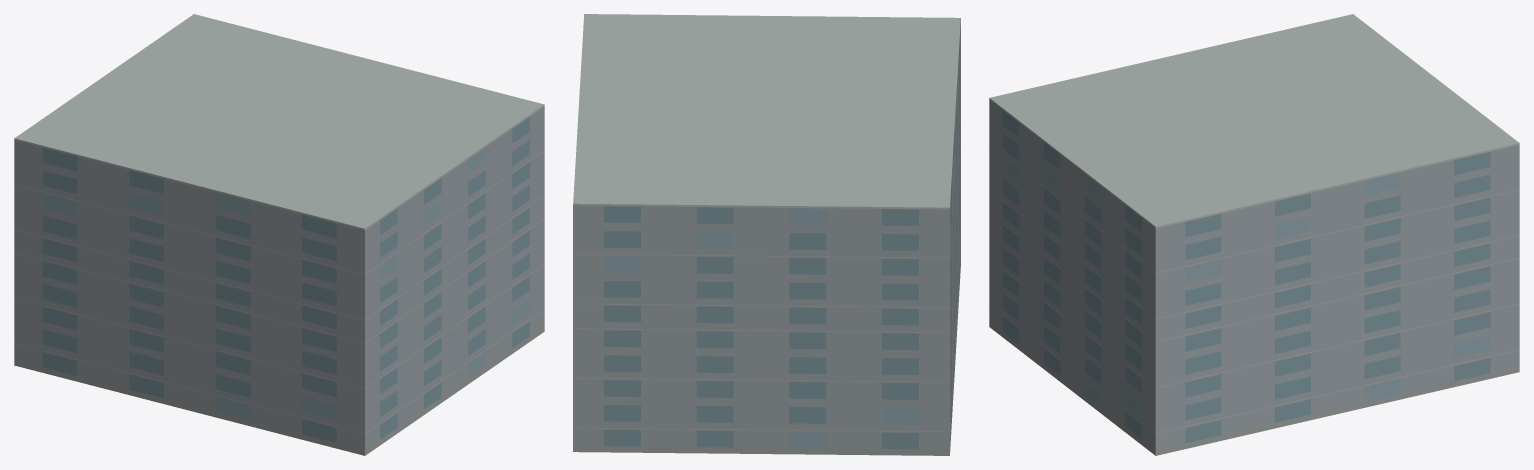
The model's file is residential-38d35627-feb6-4ab8-a360-c3bf1a3e41a0.glb.
3 views of the same model, side by side, from view 1: azimuth 30°, elevation 25°; view 2: azimuth 150°, elevation 25°; view 3: azimuth 270°, elevation 25° (orthographic). The views are drawn at different scales.
Parts seen in each view (by area): view 1: residential-38d35627-feb6-4ab8-a360-c3bf1a3e41a0.tmp; view 2: residential-38d35627-feb6-4ab8-a360-c3bf1a3e41a0.tmp; view 3: residential-38d35627-feb6-4ab8-a360-c3bf1a3e41a0.tmp.
Boxes of the visible parts, x1,y1,x2,y2 form: residential-38d35627-feb6-4ab8-a360-c3bf1a3e41a0.tmp: (14, 14, 544, 455); residential-38d35627-feb6-4ab8-a360-c3bf1a3e41a0.tmp: (573, 14, 960, 455); residential-38d35627-feb6-4ab8-a360-c3bf1a3e41a0.tmp: (989, 14, 1519, 455).
Bounding box in the file's own units: 60.78 × 30.5 × 64.
